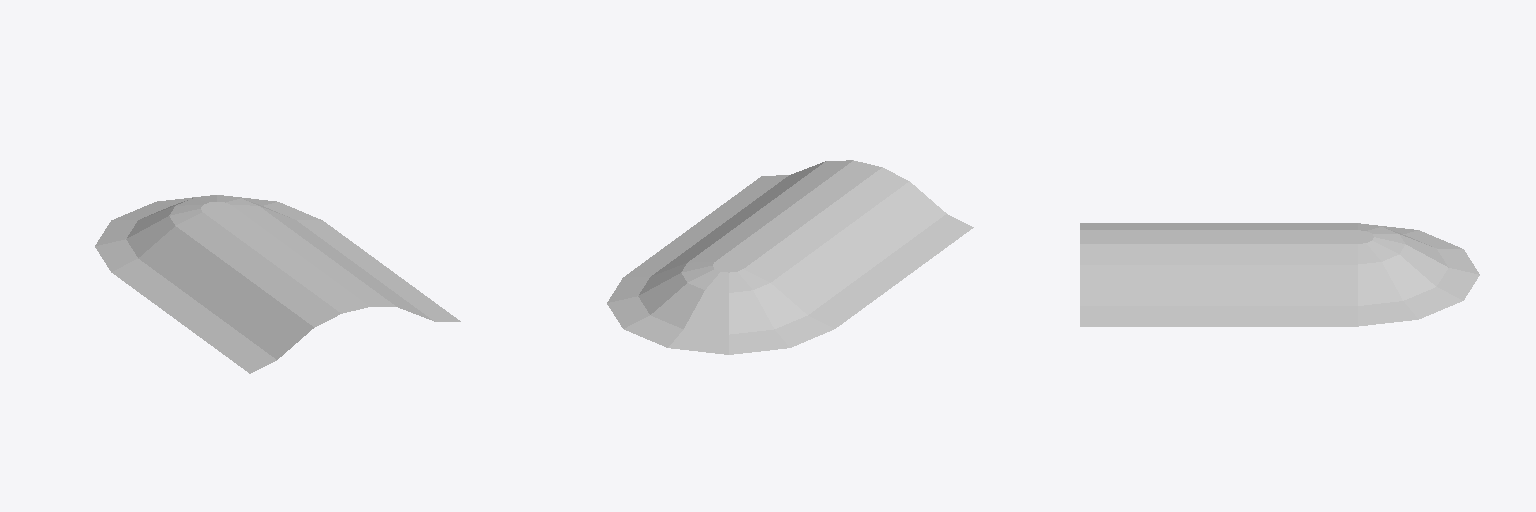
File: Prop_Track_Bump_Small_Row_End.obj
3 views of the same model, side by side, from view 1: azimuth 30°, elevation 25°; view 2: azimuth 150°, elevation 25°; view 3: azimuth 270°, elevation 25° (orthographic).
Visible parts, largest first — view 1: Dirt; view 2: Dirt; view 3: Dirt.
Boxes of the visible parts, x1=… form: Dirt: x1=95, y1=195, x2=460, y2=373; Dirt: x1=607, y1=160, x2=973, y2=354; Dirt: x1=1080, y1=223, x2=1479, y2=326.
Bounding box in the file's own units: 0.4403 × 0.075 × 0.7201.